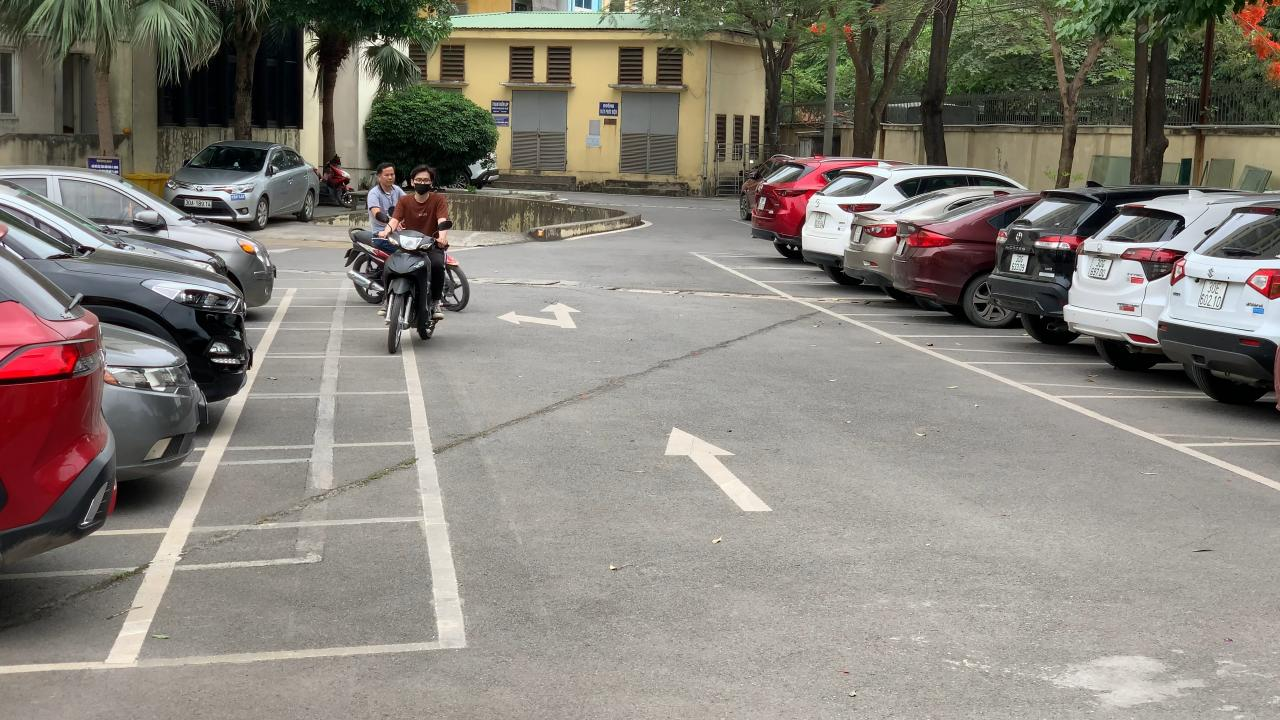motorcyclist: (342, 161, 471, 314), (374, 164, 454, 352)
